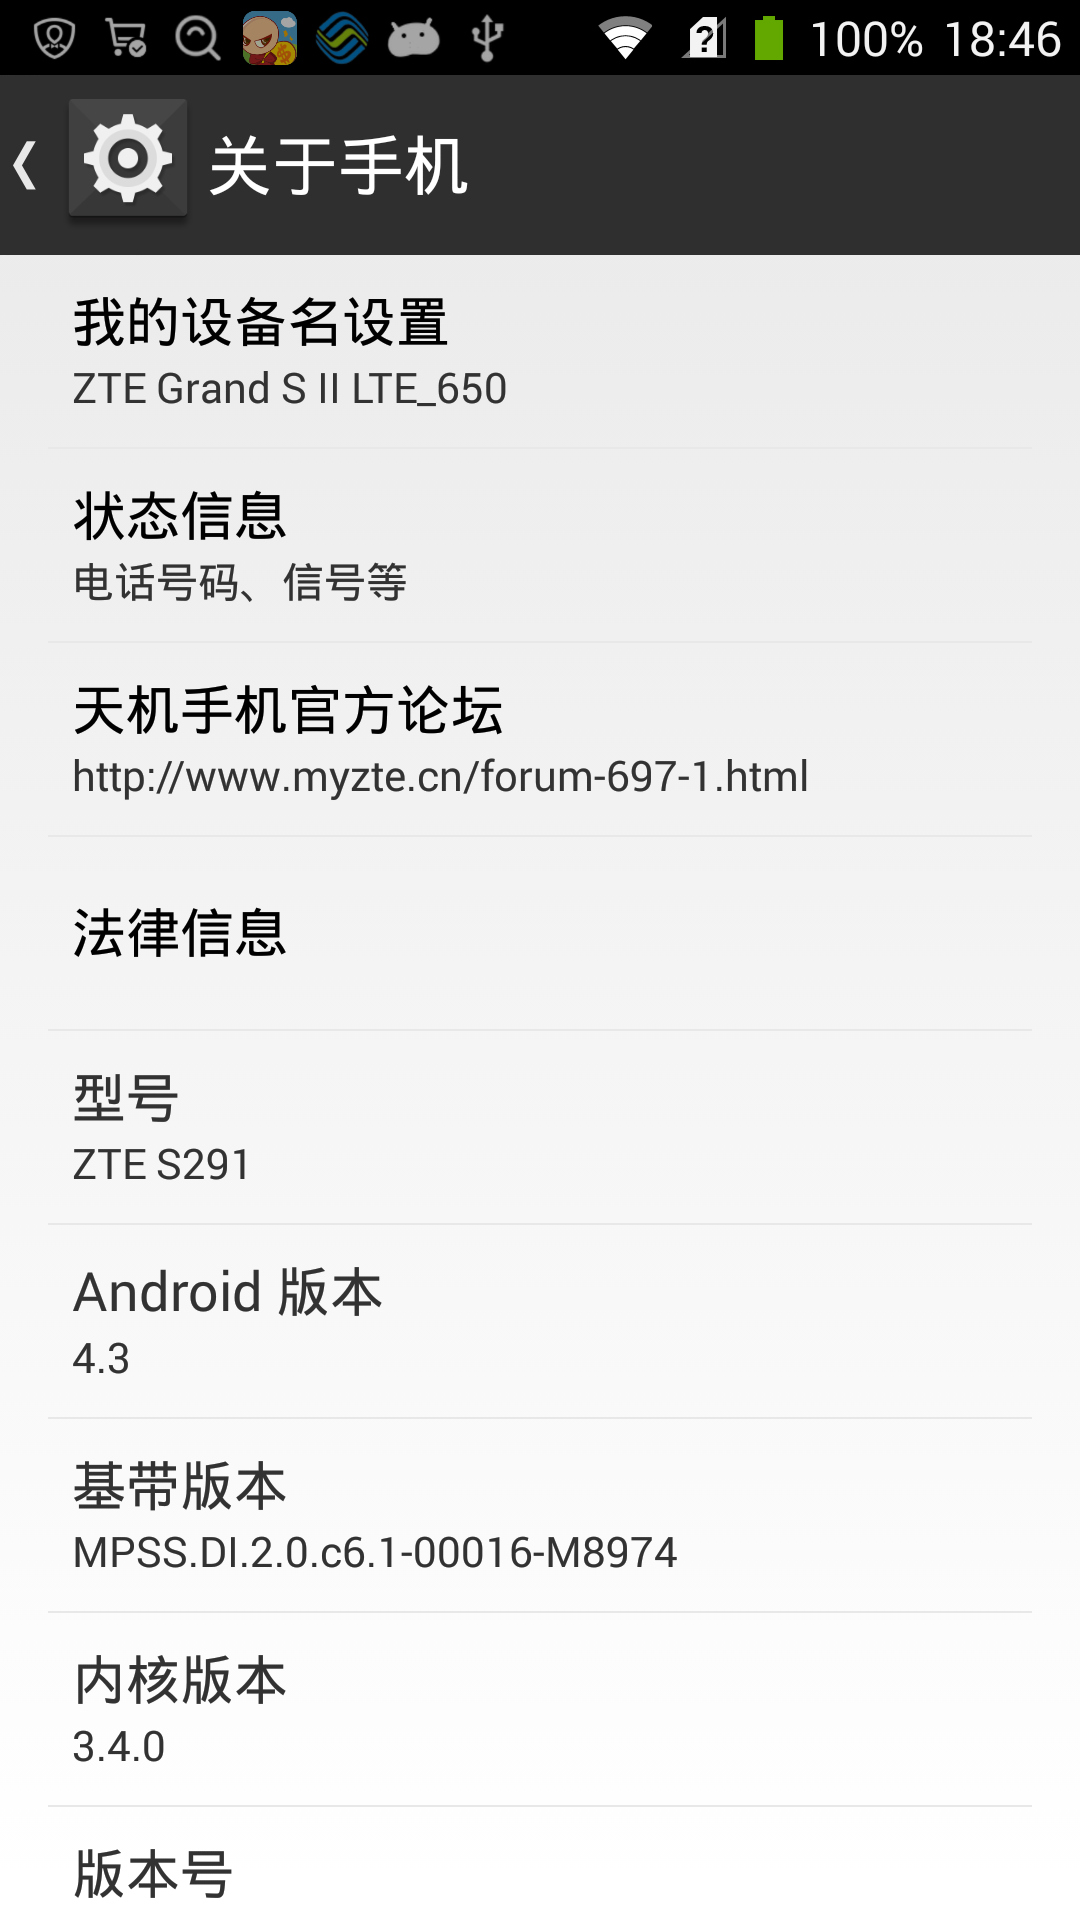imgbutton: (75, 105, 189, 218), (13, 117, 58, 222)
textview: (4, 1039, 1079, 1249), (7, 825, 1080, 1033), (11, 260, 1077, 462), (3, 1437, 1080, 1623), (1, 1251, 1079, 1433), (8, 641, 1080, 819), (1, 1629, 1080, 1799), (11, 465, 1079, 636), (7, 1803, 1038, 1920)
